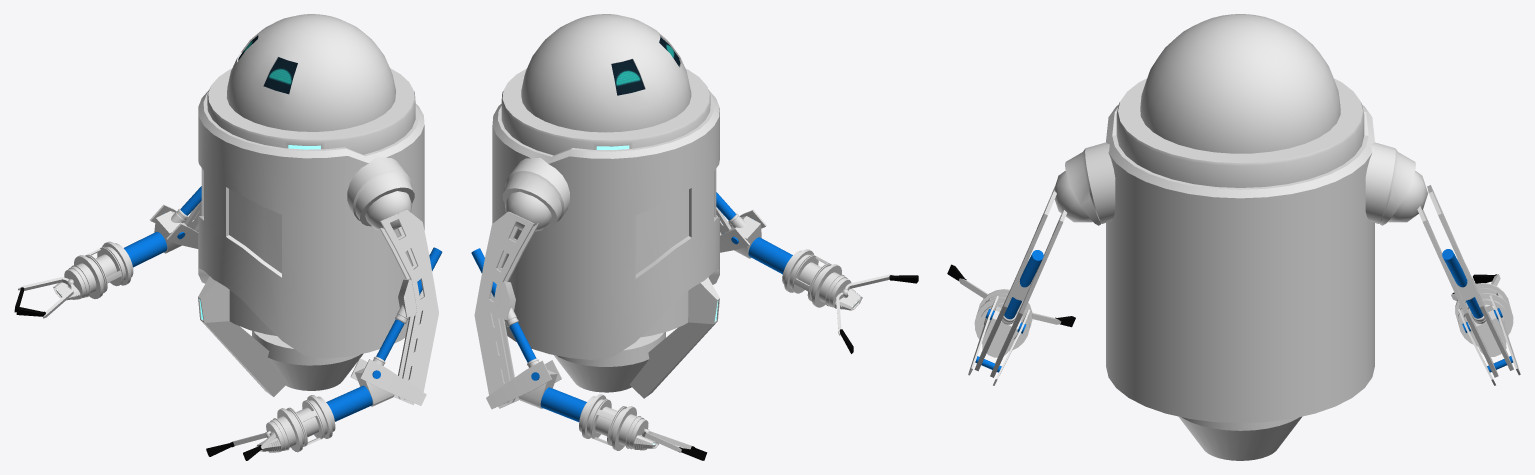
Rendered from WobotV3.2.3.fbx.
The picture shows the model from 3 angles, left to right: view 1: azimuth 30°, elevation 25°; view 2: azimuth 150°, elevation 25°; view 3: azimuth 270°, elevation 25°; orthographic projection. The views are drawn at different scales.
Visible parts, largest first — view 1: Body, Head, L_UpperArm, L_UnderArm.001, L_UnderArm, L_Hinge, L_UnderArmCylinder, L_UnderArmCylinder.001, L_Hinge.001, L_Cylinder, L_Elbow.001, L_PistonBlock (+1 smaller); view 2: Body, Head, L_UpperArm.001, L_UnderArm, L_UnderArm.001, L_Hinge.001, L_UnderArmCylinder.001, L_UnderArmCylinder, L_Cylinder.001, L_Hinge, L_Elbow, L_PistonBlock.002 (+1 smaller); view 3: Body, Head, L_UpperArm.001, L_UpperArm, L_UnderArm.001, L_UnderArm, L_Elbow, L_Elbow.001, L_Hinge.001, L_Hinge, L_Cylinder, L_Cylinder.001.
Part boxes in pixels (<box>): Body: <box>198,68,424,396</box>; Head: <box>226,14,395,131</box>; L_UpperArm: <box>379,209,438,400</box>; L_UnderArm.001: <box>64,241,131,298</box>; L_UnderArm: <box>266,395,332,452</box>; L_Hinge: <box>350,358,426,405</box>; L_UnderArmCylinder: <box>326,385,372,421</box>; L_UnderArmCylinder.001: <box>124,232,167,267</box>; L_Hinge.001: <box>150,204,198,248</box>; L_Cylinder: <box>376,247,442,360</box>; L_Elbow.001: <box>154,211,186,253</box>; L_PistonBlock: <box>398,278,416,317</box>; Body: <box>492,68,719,398</box>; Head: <box>521,14,691,132</box>; L_UpperArm.001: <box>474,211,538,403</box>; L_UnderArm: <box>784,249,851,307</box>; L_UnderArm.001: <box>582,394,648,450</box>; L_Hinge.001: <box>486,360,561,409</box>; L_UnderArmCylinder.001: <box>540,387,586,422</box>; L_UnderArmCylinder: <box>748,237,792,274</box>; L_Cylinder.001: <box>471,248,536,362</box>; L_Hinge: <box>720,210,766,252</box>; L_Elbow: <box>729,216,761,258</box>; L_PistonBlock.002: <box>497,281,515,319</box>; Body: <box>1054,78,1427,460</box>; Head: <box>1140,14,1340,153</box>; L_UpperArm.001: <box>1417,185,1513,377</box>; L_UpperArm: <box>974,187,1066,377</box>; L_UnderArm.001: <box>1455,283,1513,346</box>; L_UnderArm: <box>974,289,1032,351</box>; L_Elbow: <box>982,306,1022,357</box>; L_Elbow.001: <box>1466,305,1506,356</box>; L_Hinge.001: <box>1458,295,1520,385</box>; L_Hinge: <box>968,296,1030,385</box>; L_Cylinder: <box>1004,250,1043,319</box>; L_Cylinder.001: <box>1442,249,1483,318</box>.
Bounding box in the file's own units: 3.01 × 3.52 × 4.26.
